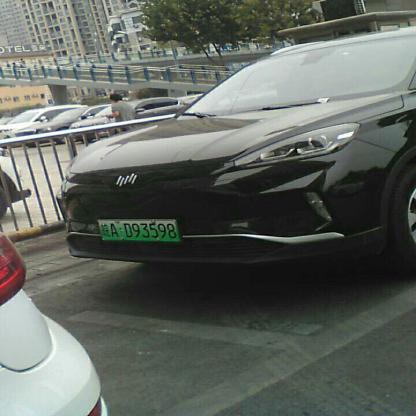lp: (98, 220, 180, 240)
